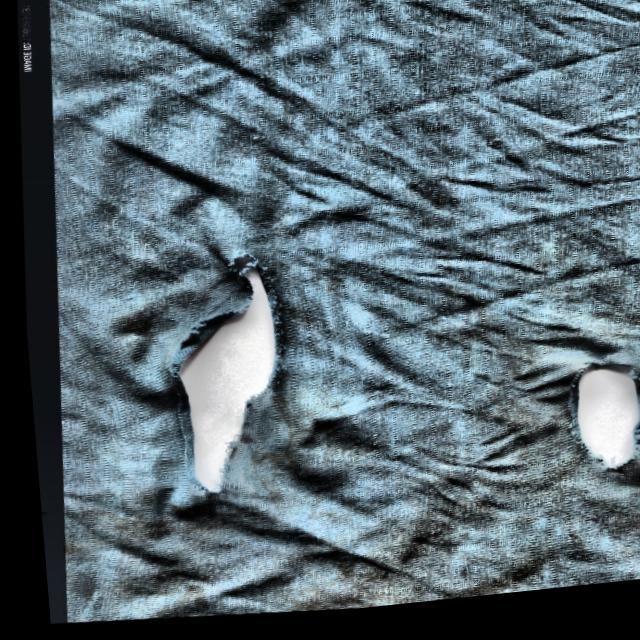Hole: (131, 236, 306, 526), (526, 351, 640, 505)
